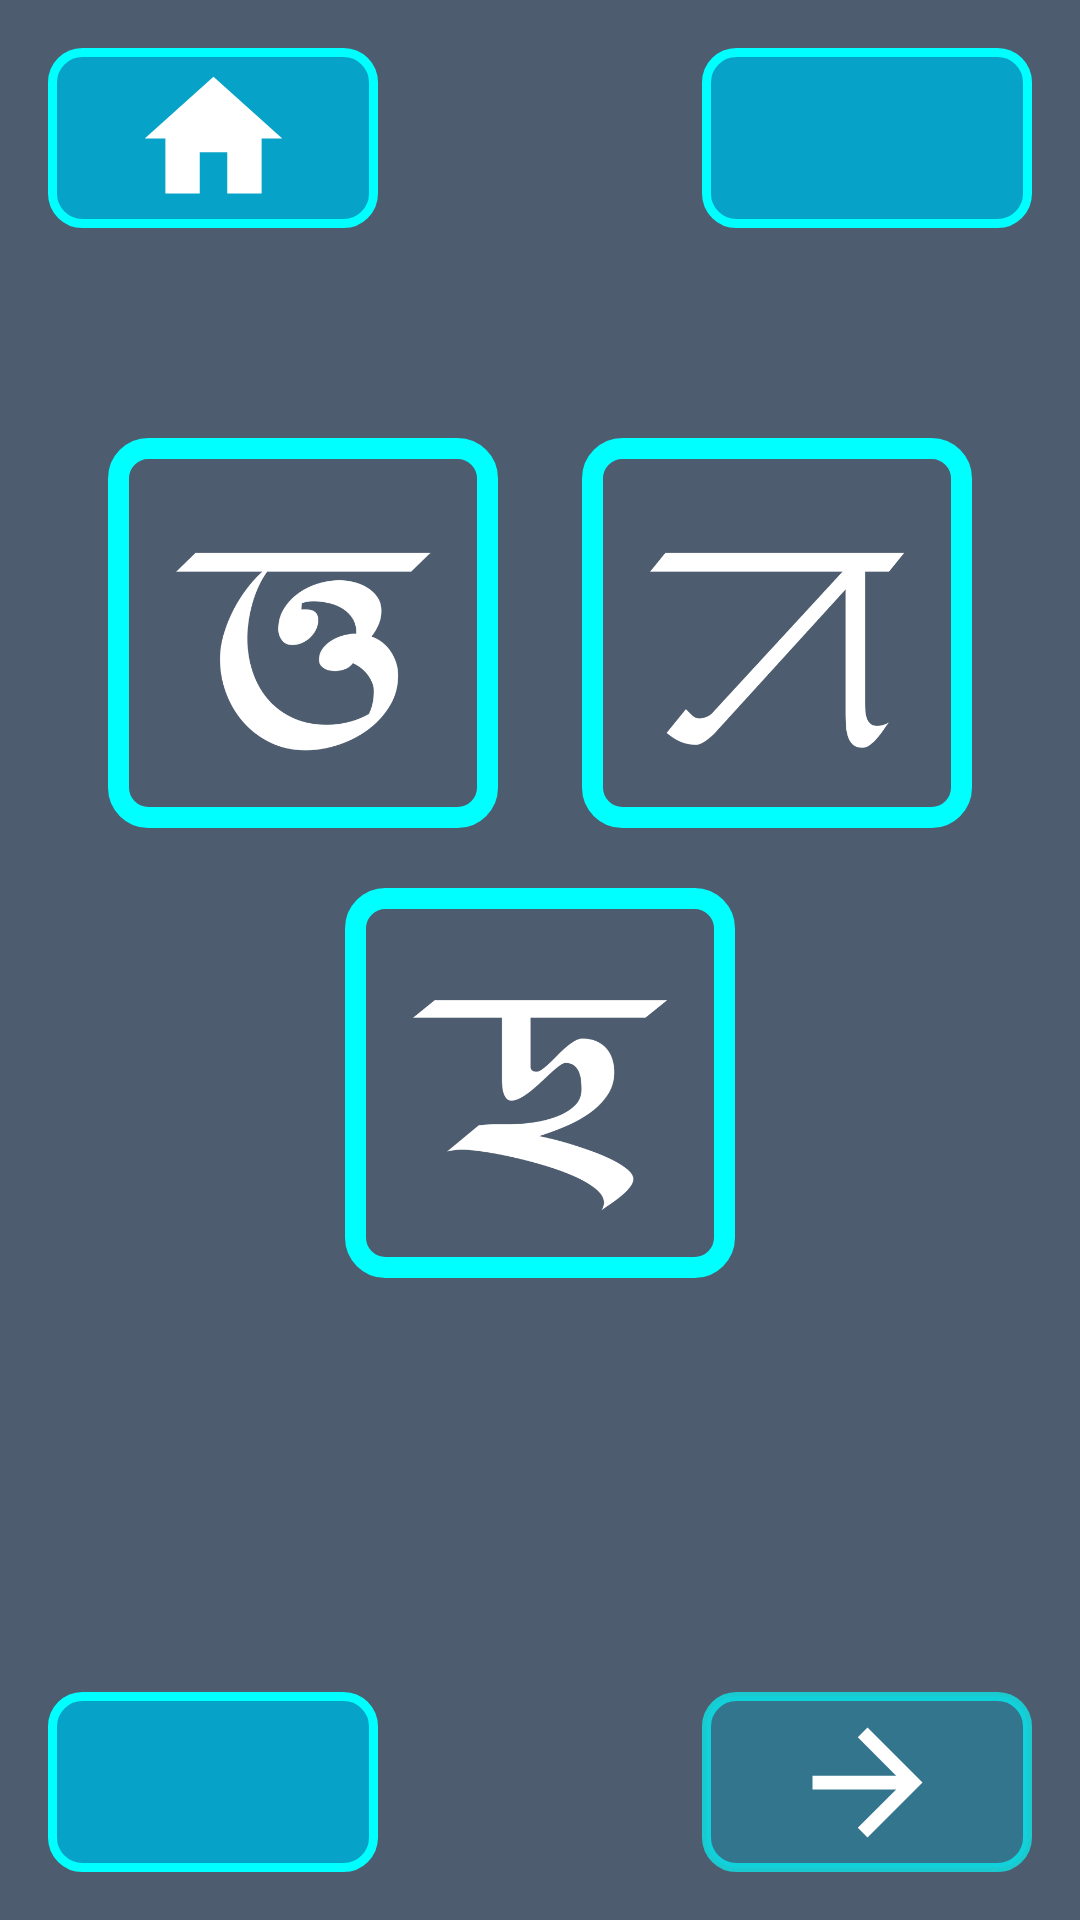

Point at icon controls on the screen. Image size 1080 × 1920, points as point (x, y).
arrow forward: point (867, 1782)
home: point (213, 138)
